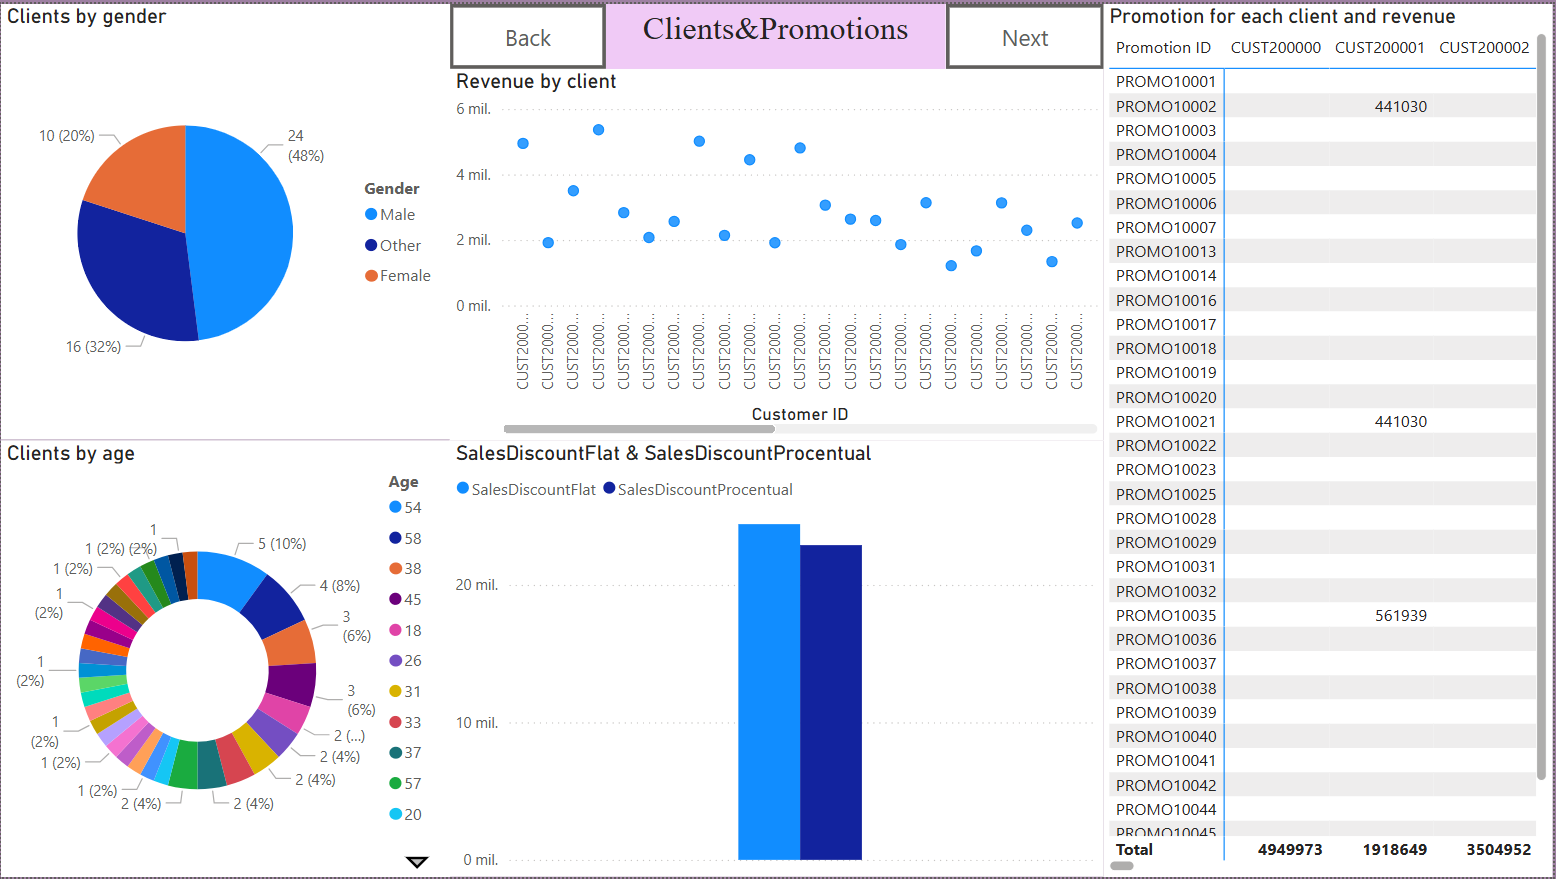

The dashboard page shown, as its layout file describes it:
{"tool":"powerbi","page":{"name":"Clients&Promotions","canvas":[1280,720],"ordinal":2},"visuals":[{"type":"textbox","box":[499.5,0,279.9,53.5],"z":0,"group":"g1"},{"type":"group","id":"g1","title":"Grup 1","box":[370.5,0,539.3,53.5],"z":0},{"type":"actionButton","box":[370.5,0,129,53.5],"z":1000,"group":"g1"},{"type":"pieChart","title":"Clients by gender","fields":{"Category":["stats_customer_demographics_clean.Gender"],"Y":["stats_customer_demographics_clean.CountClients"]},"box":[0,0,370.5,359.5],"z":1000},{"type":"actionButton","box":[779.4,0,130.4,53.5],"z":2000,"group":"g1"},{"type":"donutChart","title":"Clients by age","fields":{"Category":["stats_customer_demographics_clean.Age"],"Y":["stats_customer_demographics_clean.CountClients"]},"box":[0,359.5,370.5,360.9],"z":2000},{"type":"pivotTable","title":"Promotion for each client and revenue","fields":{"Rows":["stats_promotions_and_discounts_clean.Promotion ID"],"Columns":["stats_customer_demographics_clean.Customer ID"],"Values":["Sum(stats_sales_data_clean.Revenue)"]},"box":[909.8,0,370.5,720.4],"z":3000},{"type":"scatterChart","title":"Revenue by client","fields":{"Y":["Sum(stats_sales_data_clean.Revenue)"],"X":["stats_customer_demographics_clean.Customer ID"]},"box":[370.5,53.5,539.3,306],"z":4000},{"type":"clusteredColumnChart","title":"SalesDiscountFlat & SalesDiscountProcentual","fields":{"Y":["stats_sales_data_clean.SalesDiscountFlat","stats_sales_data_clean.SalesDiscountProcentual"]},"box":[370,360,539,360],"z":5000}]}

Visuals, with their boxes in screenshot pixels (x1, y1, x2, y2), scaled from the page's 1280x720 canvas onto the 1556x879 screenshot:
textbox: box=[607, 0, 947, 65]
"Grup 1" group: box=[450, 0, 1106, 65]
actionButton: box=[450, 0, 607, 65]
"Clients by gender" pieChart: box=[0, 0, 450, 439]
actionButton: box=[947, 0, 1106, 65]
"Clients by age" donutChart: box=[0, 439, 450, 878]
"Promotion for each client and revenue" pivotTable: box=[1106, 0, 1555, 878]
"Revenue by client" scatterChart: box=[450, 65, 1106, 439]
"SalesDiscountFlat & SalesDiscountProcentual" clusteredColumnChart: box=[450, 440, 1105, 878]
